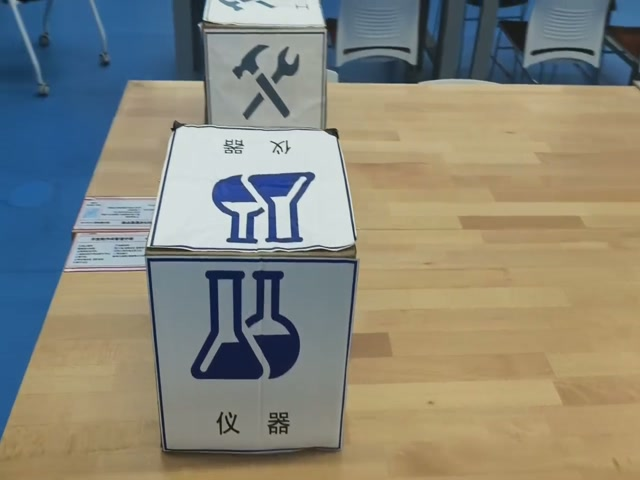Cube_ins: (146, 124, 356, 259)
